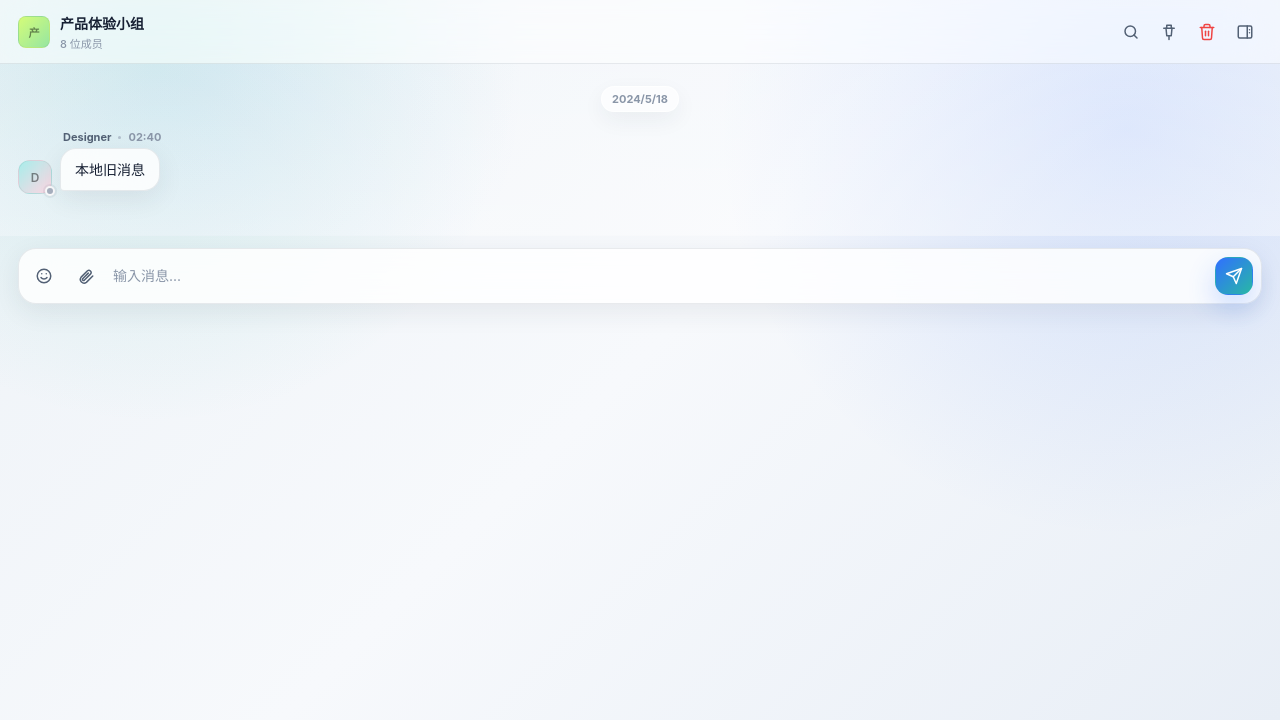
Test: ChatWindow › uses backend search results outside preview mode
Click the button named "搜索消息". click: (1131, 32)
box: [1114,14,1148,48]
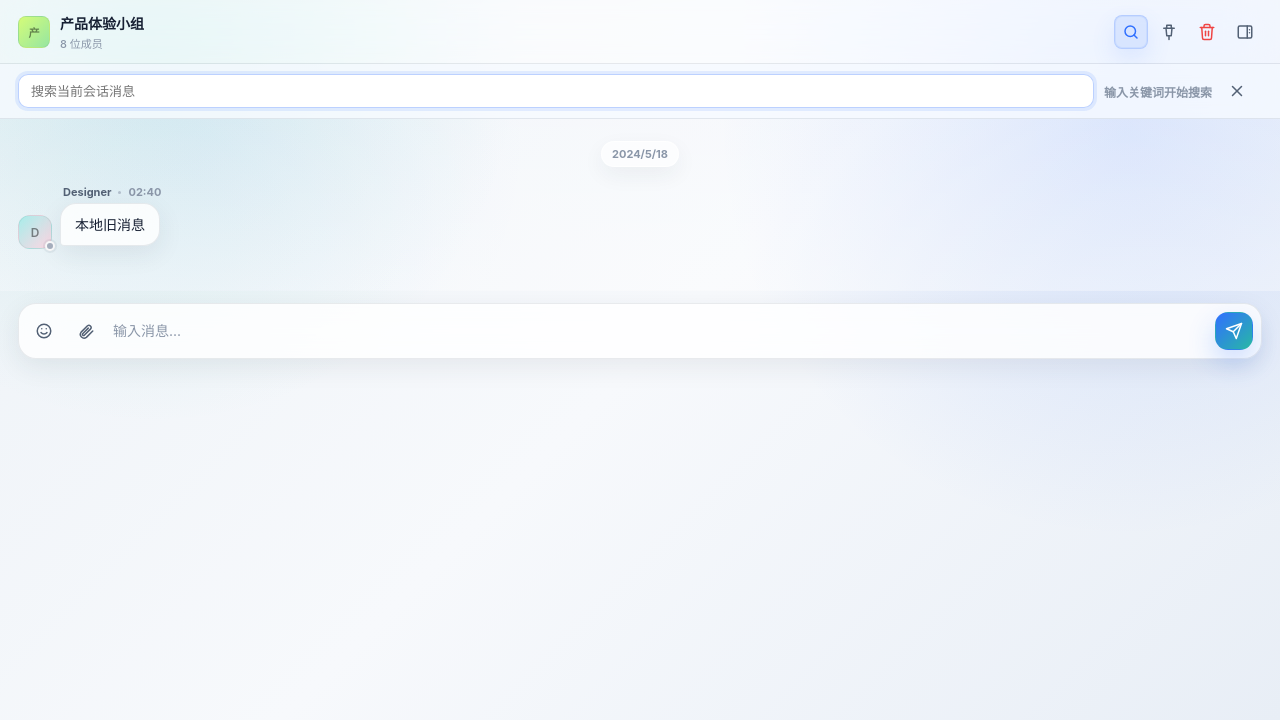
Type "backend" into the field with placeholder "搜索当前会话消息". click: (556, 91)
box: [18,74,1094,108]
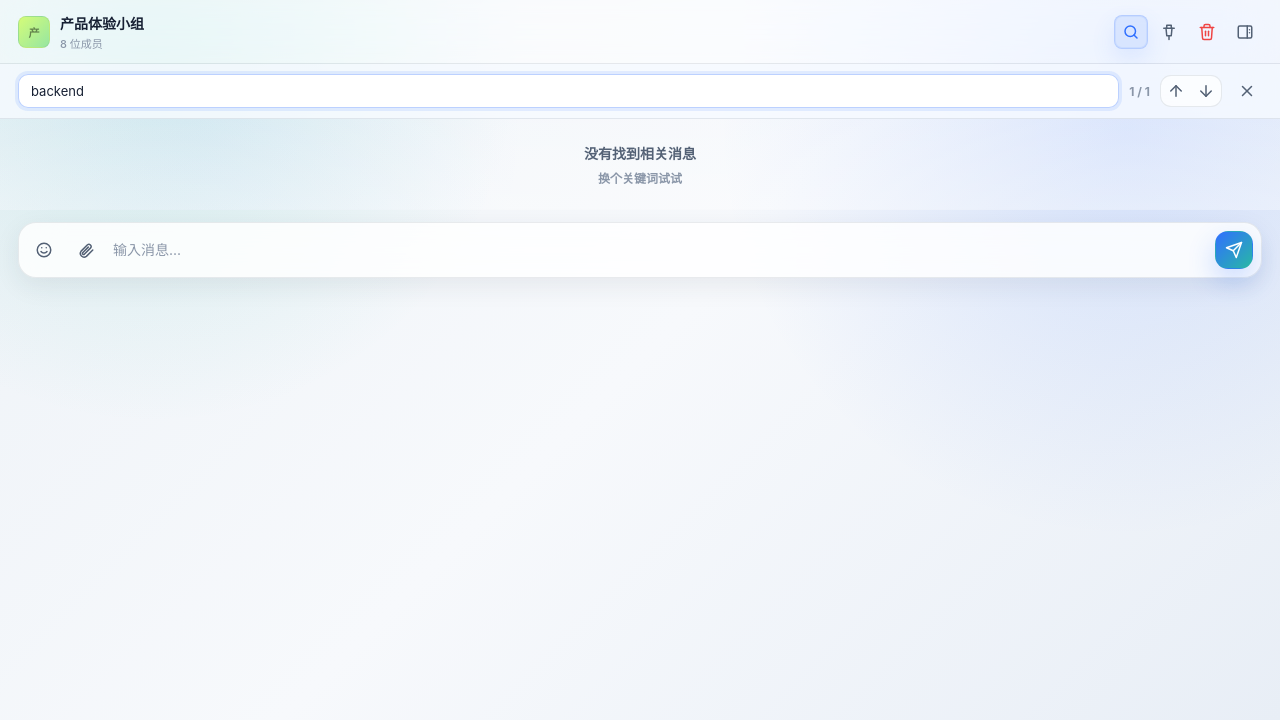
Expected: the text "1 / 1" is shown, [1129,84,1150,98]
